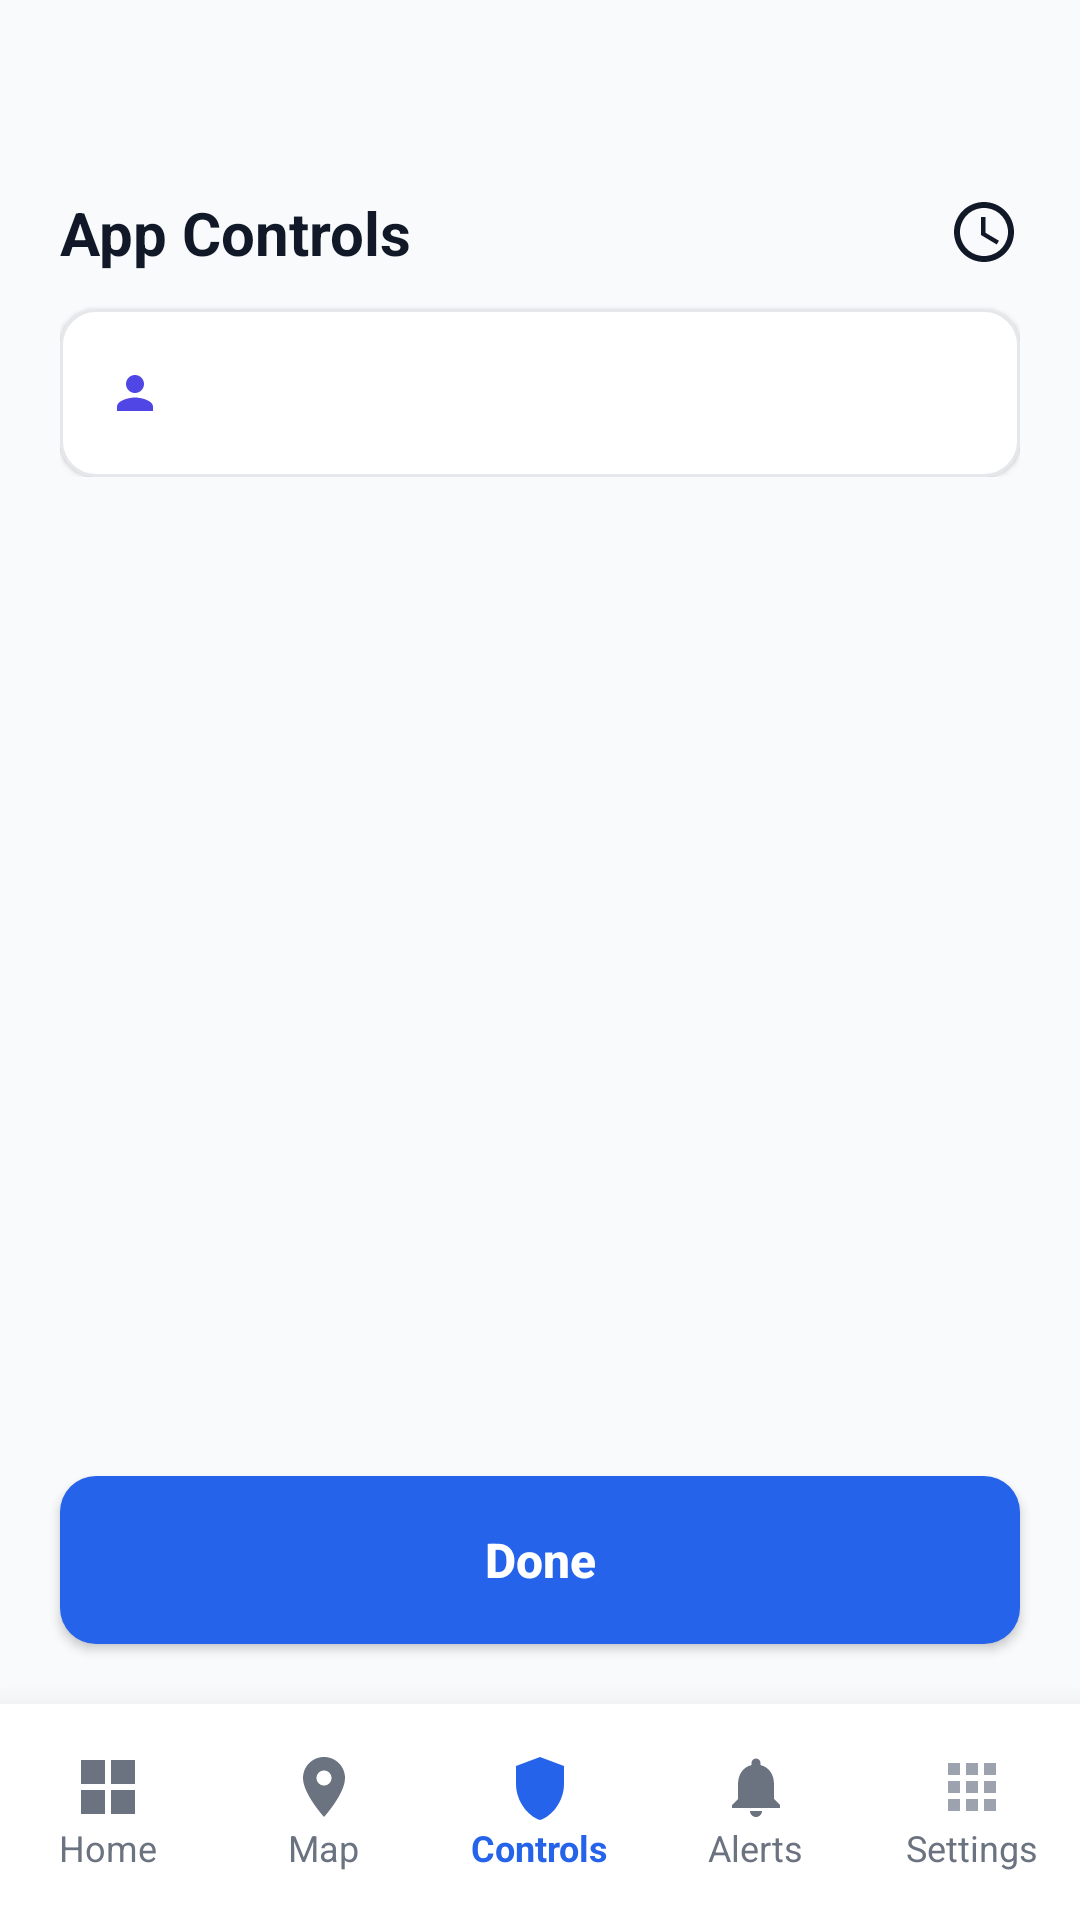

Screen size 1080px x 1920px. Icon name, then its center in pixels as (x,y):
clock: (984,232)
dashboard grid: (108,1787)
grid: (972,1787)
location pin: (324,1787)
person: (135,393)
